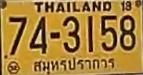1: (87, 15, 92, 52)
3: (62, 15, 79, 52)
4: (29, 16, 46, 54)
5: (100, 14, 116, 50)
7: (8, 16, 26, 54)
8: (119, 14, 135, 50)
SPK: (32, 57, 116, 73)
